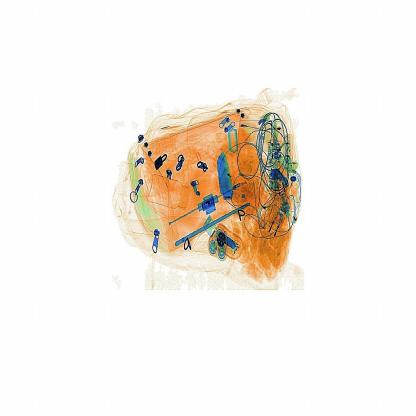wrench: (216, 121, 244, 221)
